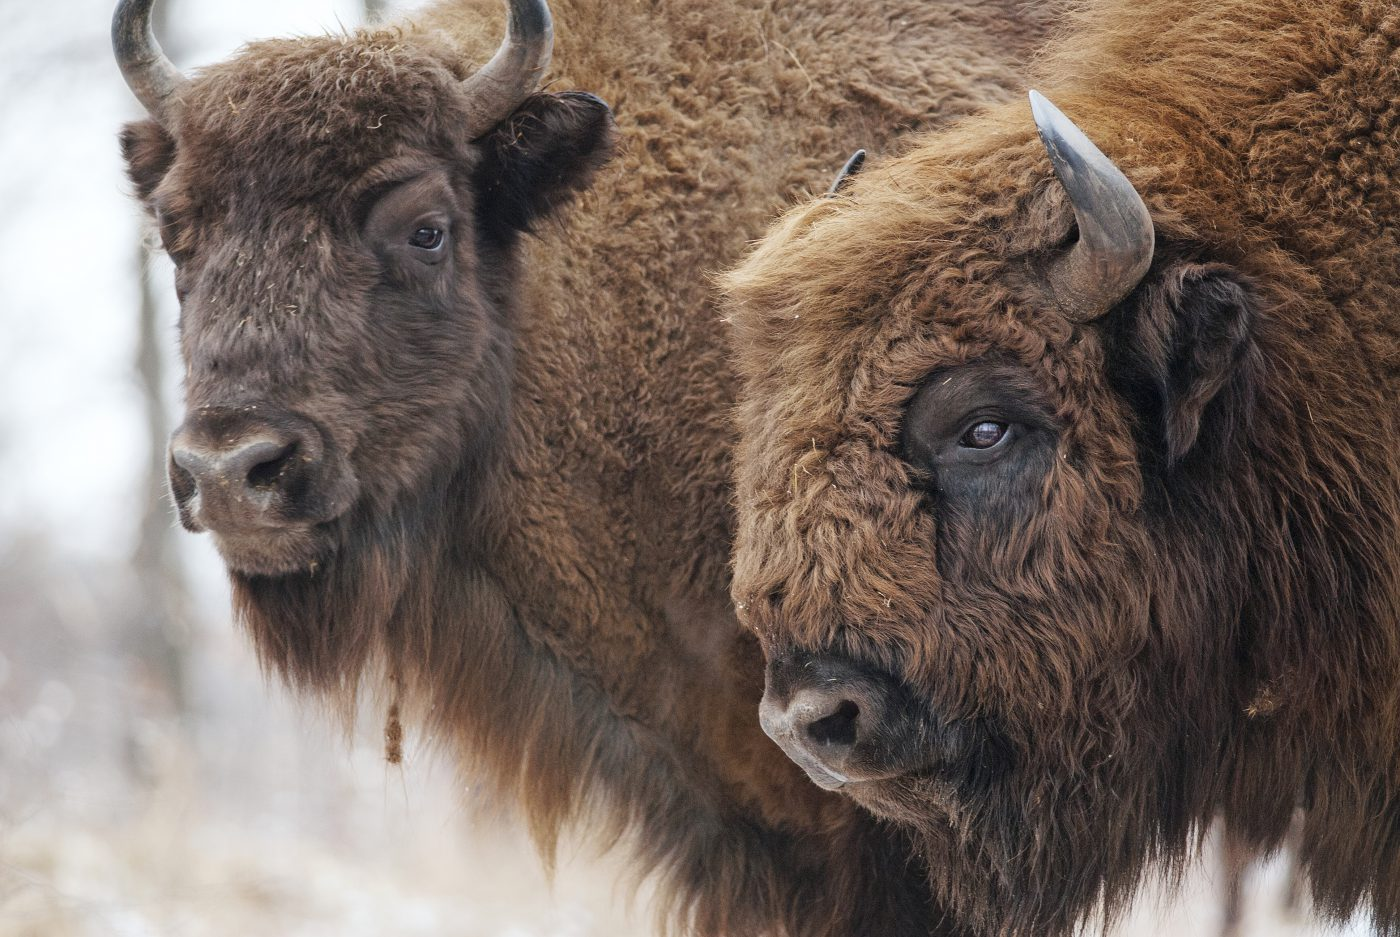zubr: (32, 19, 737, 906), (714, 14, 1400, 892)
